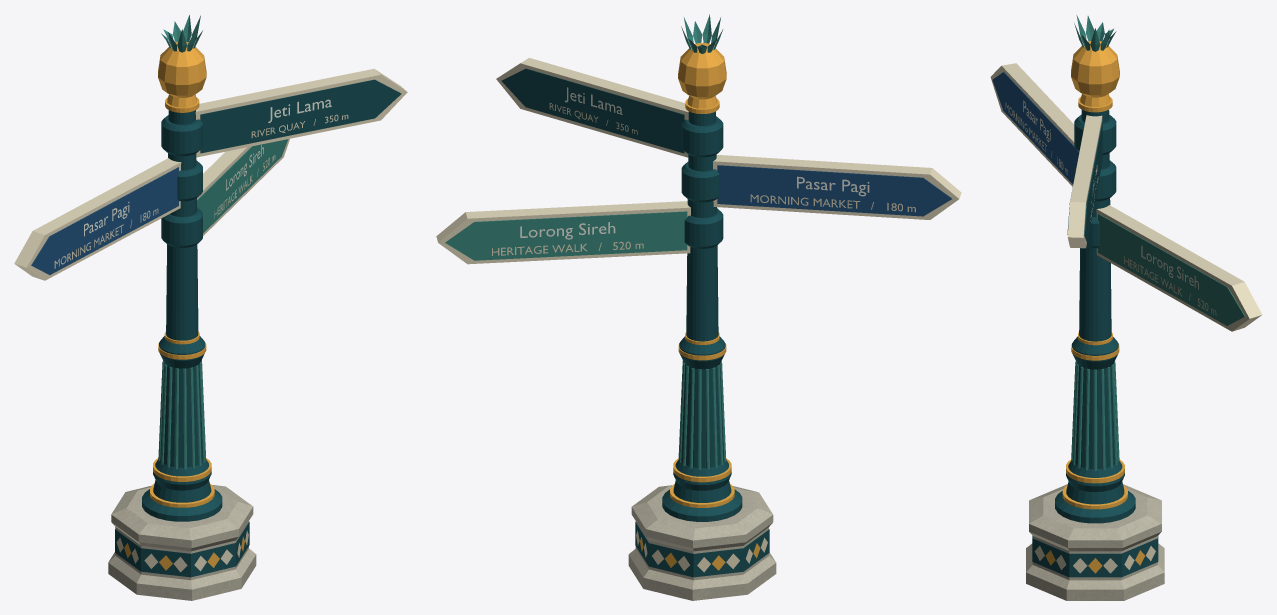
The picture shows the model from 3 angles, left to right: view 1: azimuth 30°, elevation 25°; view 2: azimuth 150°, elevation 25°; view 3: azimuth 270°, elevation 25°; orthographic projection.
Parts seen in each view (by area): view 1: Enamel Fingers, Fluted Standard, Stone Plinth, Blade Hubs, Cast Flutes, Glazed Tile Frieze, Fruit Finial, Trail Lettering, Brass Collars, Tile Lozenges, Calyx; view 2: Enamel Fingers, Fluted Standard, Stone Plinth, Blade Hubs, Cast Flutes, Glazed Tile Frieze, Trail Lettering, Fruit Finial, Brass Collars, Tile Lozenges, Calyx; view 3: Enamel Fingers, Fluted Standard, Stone Plinth, Cast Flutes, Fruit Finial, Glazed Tile Frieze, Blade Hubs, Brass Collars, Trail Lettering, Tile Lozenges, Calyx.
Boxes of the visible parts, bbox=[...] form: Enamel Fingers: bbox=[14, 69, 407, 280]; Fluted Standard: bbox=[142, 110, 222, 521]; Stone Plinth: bbox=[108, 485, 256, 600]; Blade Hubs: bbox=[161, 115, 202, 247]; Cast Flutes: bbox=[158, 360, 205, 469]; Glazed Tile Frieze: bbox=[115, 521, 249, 577]; Fruit Finial: bbox=[158, 41, 206, 107]; Trail Lettering: bbox=[54, 99, 348, 268]; Brass Collars: bbox=[150, 97, 214, 507]; Tile Lozenges: bbox=[116, 530, 248, 572]; Calyx: bbox=[161, 15, 202, 52]; Enamel Fingers: bbox=[436, 58, 961, 264]; Fluted Standard: bbox=[662, 111, 742, 521]; Stone Plinth: bbox=[628, 485, 776, 600]; Blade Hubs: bbox=[681, 116, 723, 248]; Cast Flutes: bbox=[678, 360, 726, 469]; Glazed Tile Frieze: bbox=[635, 522, 769, 577]; Trail Lettering: bbox=[492, 87, 915, 255]; Fruit Finial: bbox=[678, 43, 726, 108]; Brass Collars: bbox=[670, 99, 734, 507]; Tile Lozenges: bbox=[636, 530, 767, 572]; Calyx: bbox=[681, 14, 722, 53]; Enamel Fingers: bbox=[990, 63, 1262, 331]; Fluted Standard: bbox=[1055, 110, 1135, 523]; Stone Plinth: bbox=[1026, 484, 1164, 600]; Cast Flutes: bbox=[1071, 361, 1119, 471]; Fruit Finial: bbox=[1071, 41, 1119, 106]; Glazed Tile Frieze: bbox=[1032, 536, 1158, 577]; Blade Hubs: bbox=[1074, 114, 1116, 248]; Brass Collars: bbox=[1062, 97, 1127, 509]; Trail Lettering: bbox=[1005, 100, 1216, 315]; Tile Lozenges: bbox=[1034, 546, 1155, 573]; Calyx: bbox=[1074, 15, 1116, 51].
Size of the model in its own units: 3.16 by 3.9 by 1.74.
Materials: 7 (1 with a texture image).
